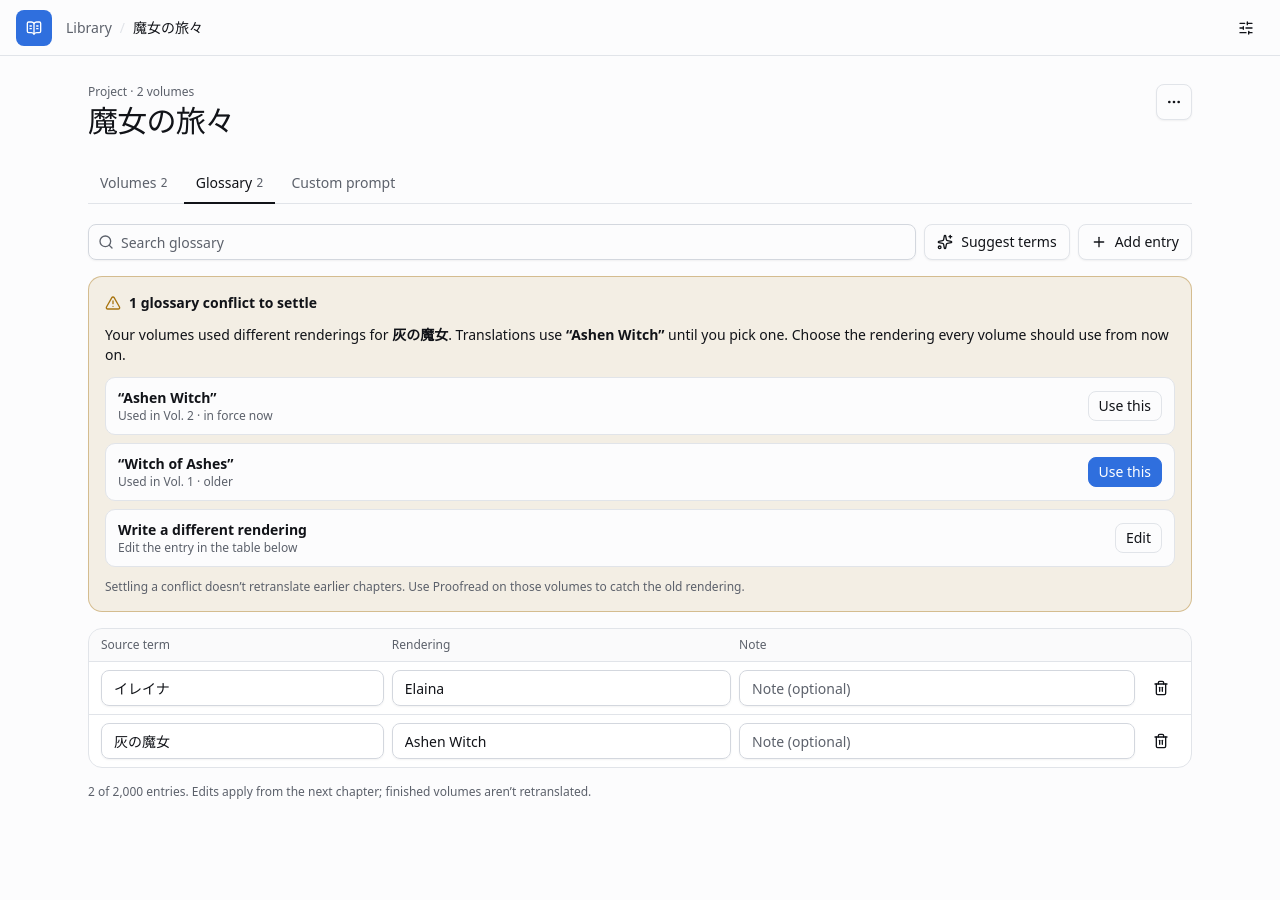
Test: glossary conflicts › writing a different rendering focuses the entry's rendering
The width and height of the screenshot is (1280, 900).
Click the button "Write a different rendering" at (212,530), box 105,509 -> 1175,567
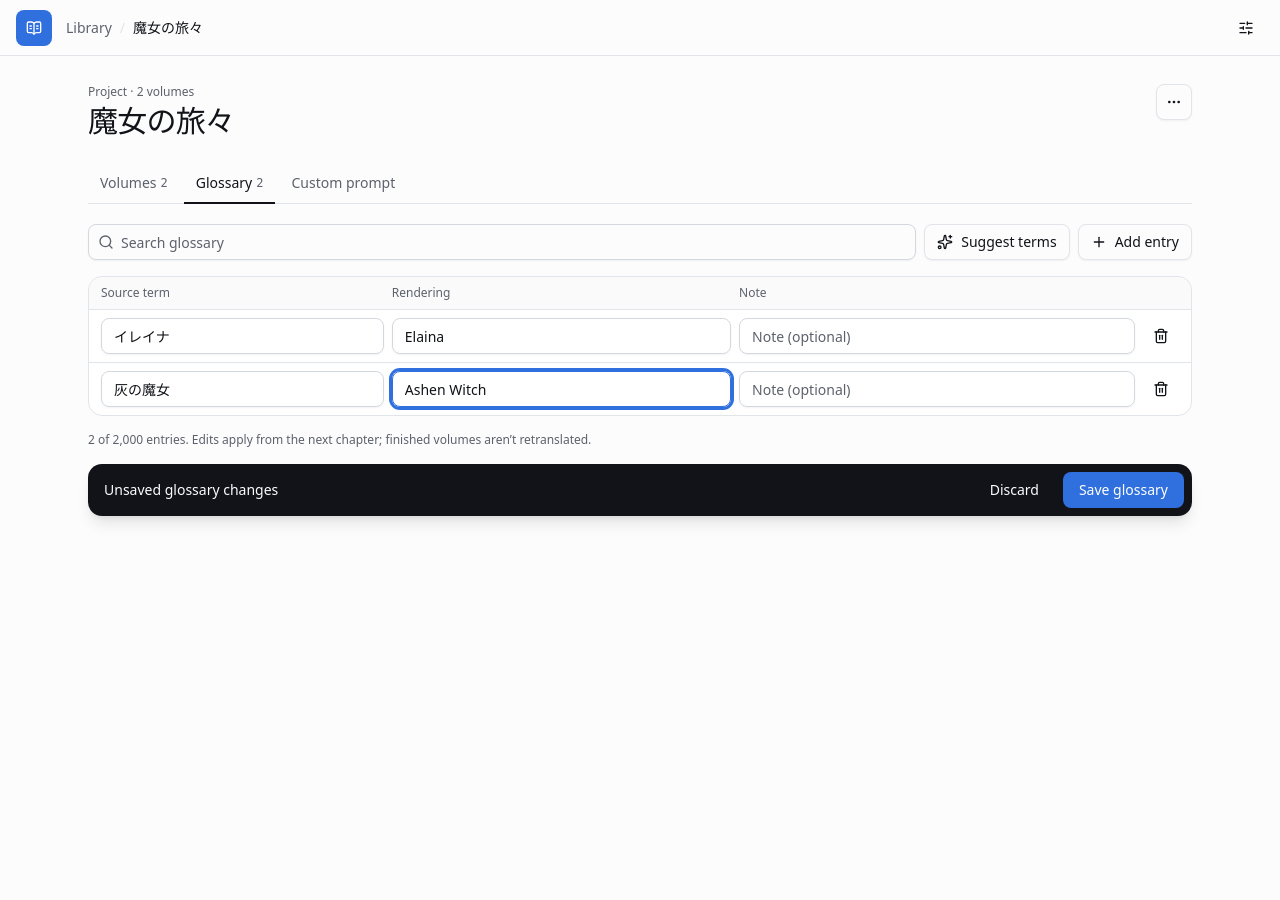
Check: the element "Unsaved glossary changes" is shown, box 88,464 -> 1192,516
